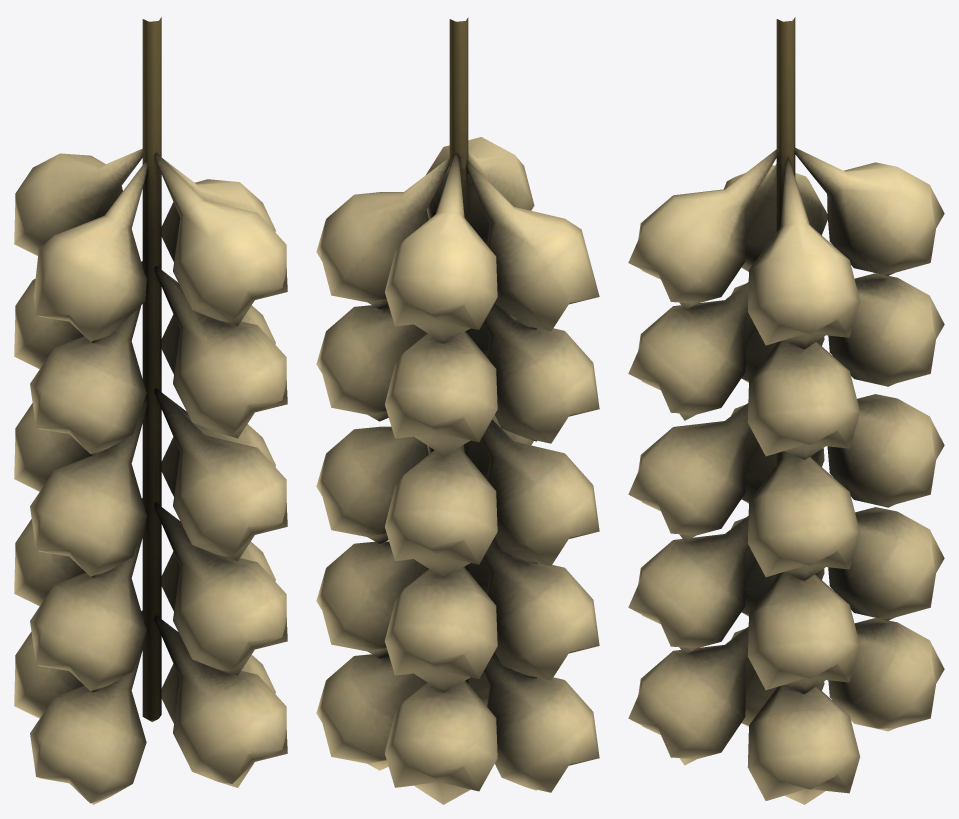
The model's file is garlic_short.glb.
The picture shows the model from 3 angles, left to right: view 1: azimuth 30°, elevation 25°; view 2: azimuth 150°, elevation 25°; view 3: azimuth 270°, elevation 25°; orthographic projection.
Parts seen in each view (by area): view 1: fc_k_garlic_short.smd; view 2: fc_k_garlic_short.smd; view 3: fc_k_garlic_short.smd.
Part boxes in pixels (x1,y1,x2,y2): fc_k_garlic_short.smd: (14,17,287,804); fc_k_garlic_short.smd: (316,17,599,804); fc_k_garlic_short.smd: (628,17,944,804).
Size of the model in its own units: 0.2395 by 0.6756 by 0.2571.
1 material, 1 textured.
